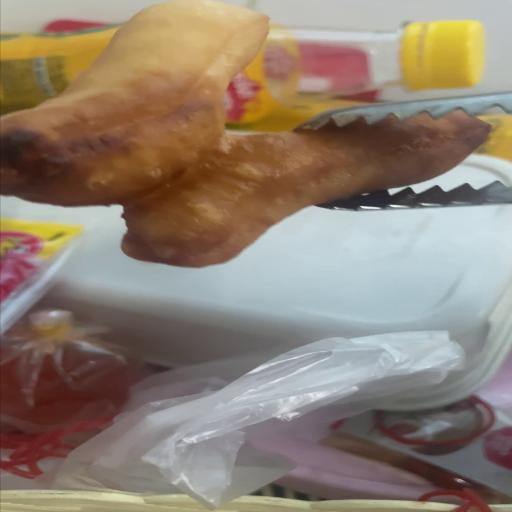street_burnt_good: (0, 0, 491, 267)
